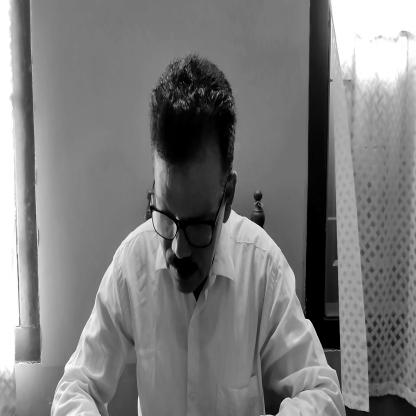Distracted: (139, 67, 234, 296)
